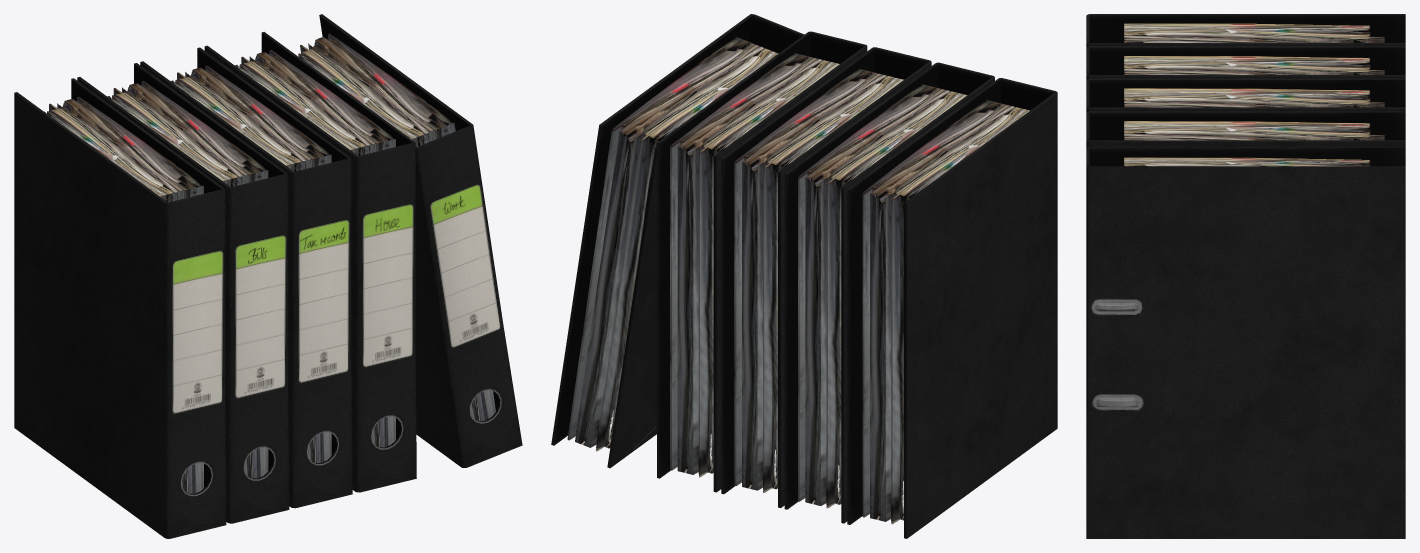
File: Props_Folders.fbx
The picture shows the model from 3 angles, left to right: view 1: azimuth 30°, elevation 25°; view 2: azimuth 150°, elevation 25°; view 3: azimuth 270°, elevation 25°; orthographic projection. The views are drawn at different scales.
Parts seen in each view (by area): view 1: folder_LP_nolabel, folder_LP_Work, folder_LP_House, folder_LP_TaxRecords, folder_LP_Bills; view 2: folder_LP_nolabel, folder_LP_Work, folder_LP_House, folder_LP_TaxRecords, folder_LP_Bills; view 3: folder_LP_Work, folder_LP_House, folder_LP_TaxRecords, folder_LP_Bills, folder_LP_nolabel.
Part boxes in pixels (left/top/right/bottom): folder_LP_nolabel: left=14, top=78, right=226, bottom=538; folder_LP_Work: left=298, top=14, right=522, bottom=467; folder_LP_House: left=204, top=32, right=416, bottom=492; folder_LP_TaxRecords: left=140, top=47, right=352, bottom=508; folder_LP_Bills: left=77, top=63, right=289, bottom=523; folder_LP_nolabel: left=847, top=78, right=1057, bottom=538; folder_LP_Work: left=551, top=14, right=804, bottom=468; folder_LP_House: left=657, top=31, right=867, bottom=492; folder_LP_TaxRecords: left=721, top=47, right=931, bottom=507; folder_LP_Bills: left=784, top=62, right=994, bottom=523; folder_LP_Work: left=1086, top=147, right=1405, bottom=538; folder_LP_House: left=1086, top=111, right=1405, bottom=147; folder_LP_TaxRecords: left=1086, top=78, right=1405, bottom=112; folder_LP_Bills: left=1086, top=46, right=1405, bottom=79; folder_LP_nolabel: left=1086, top=14, right=1405, bottom=47.
Bounding box in the file's own units: 42.68 × 39.09 × 31.71.
